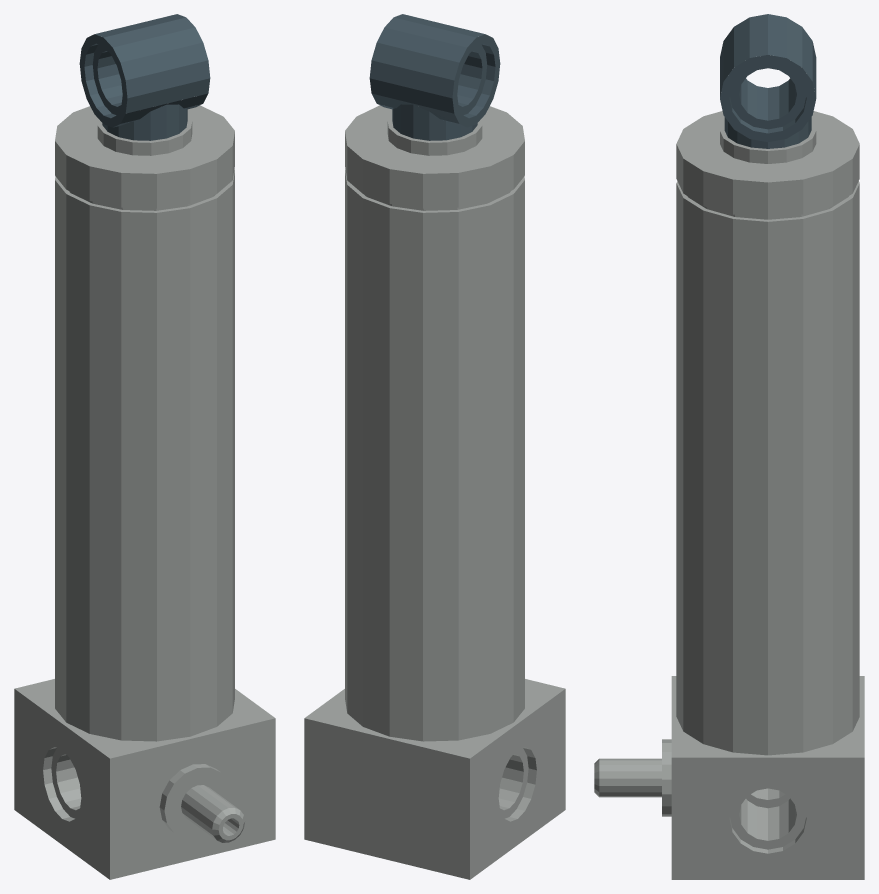
3 renders of one model, left to right at view 1: azimuth 30°, elevation 25°; view 2: azimuth 150°, elevation 25°; view 3: azimuth 270°, elevation 25°, orthographic.
Visible parts, largest first — view 1: world; view 2: world; view 3: world.
Part boxes in pixels (left/top/right/bottom): world: left=14, top=14, right=275, bottom=879; world: left=304, top=14, right=565, bottom=879; world: left=594, top=14, right=864, bottom=879.
Size of the model in its own units: 0.016 by 0.0736 by 0.0224.
